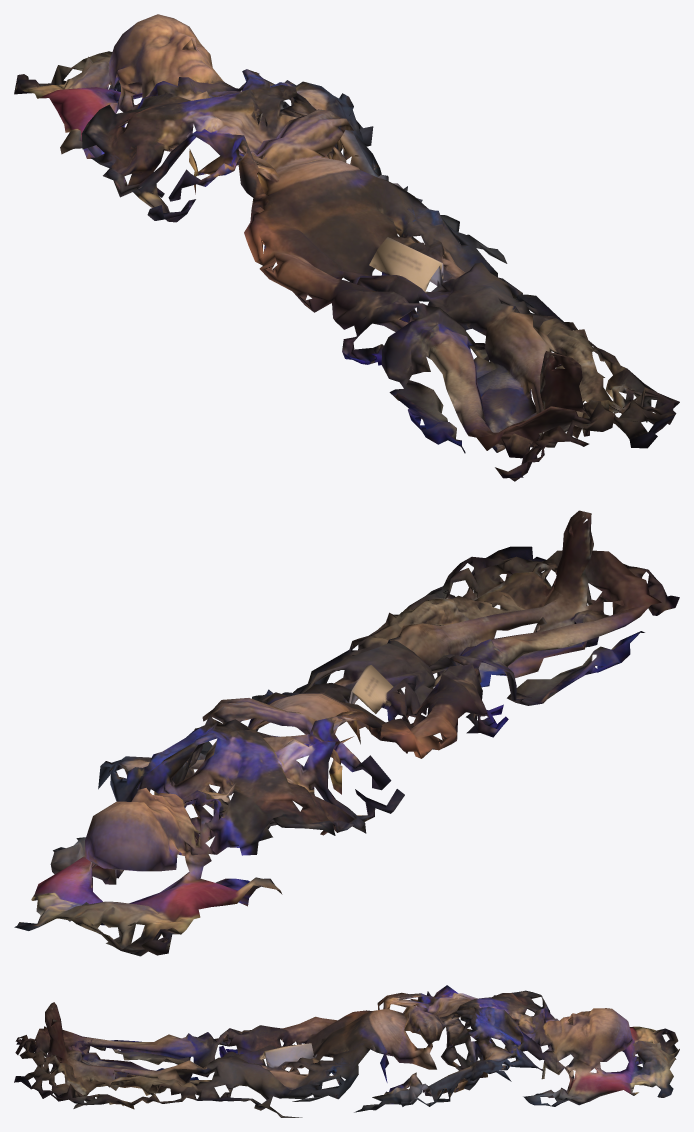
The model's file is corpse_in_coffin_dead_presidents.glb.
3 renders of one model, top to bottom at view 1: azimuth 30°, elevation 25°; view 2: azimuth 150°, elevation 25°; view 3: azimuth 270°, elevation 25°, orthographic. The views are drawn at different scales.
Parts seen in each view (by area): view 1: geo1; view 2: geo1; view 3: geo1.
Part boxes in pixels (bbox=[...]): geo1: bbox=[14, 14, 679, 481]; geo1: bbox=[14, 510, 679, 956]; geo1: bbox=[14, 985, 679, 1117].
Size of the model in its own units: 0.5394 by 0.249 by 1.83.
1 material, 1 textured.
